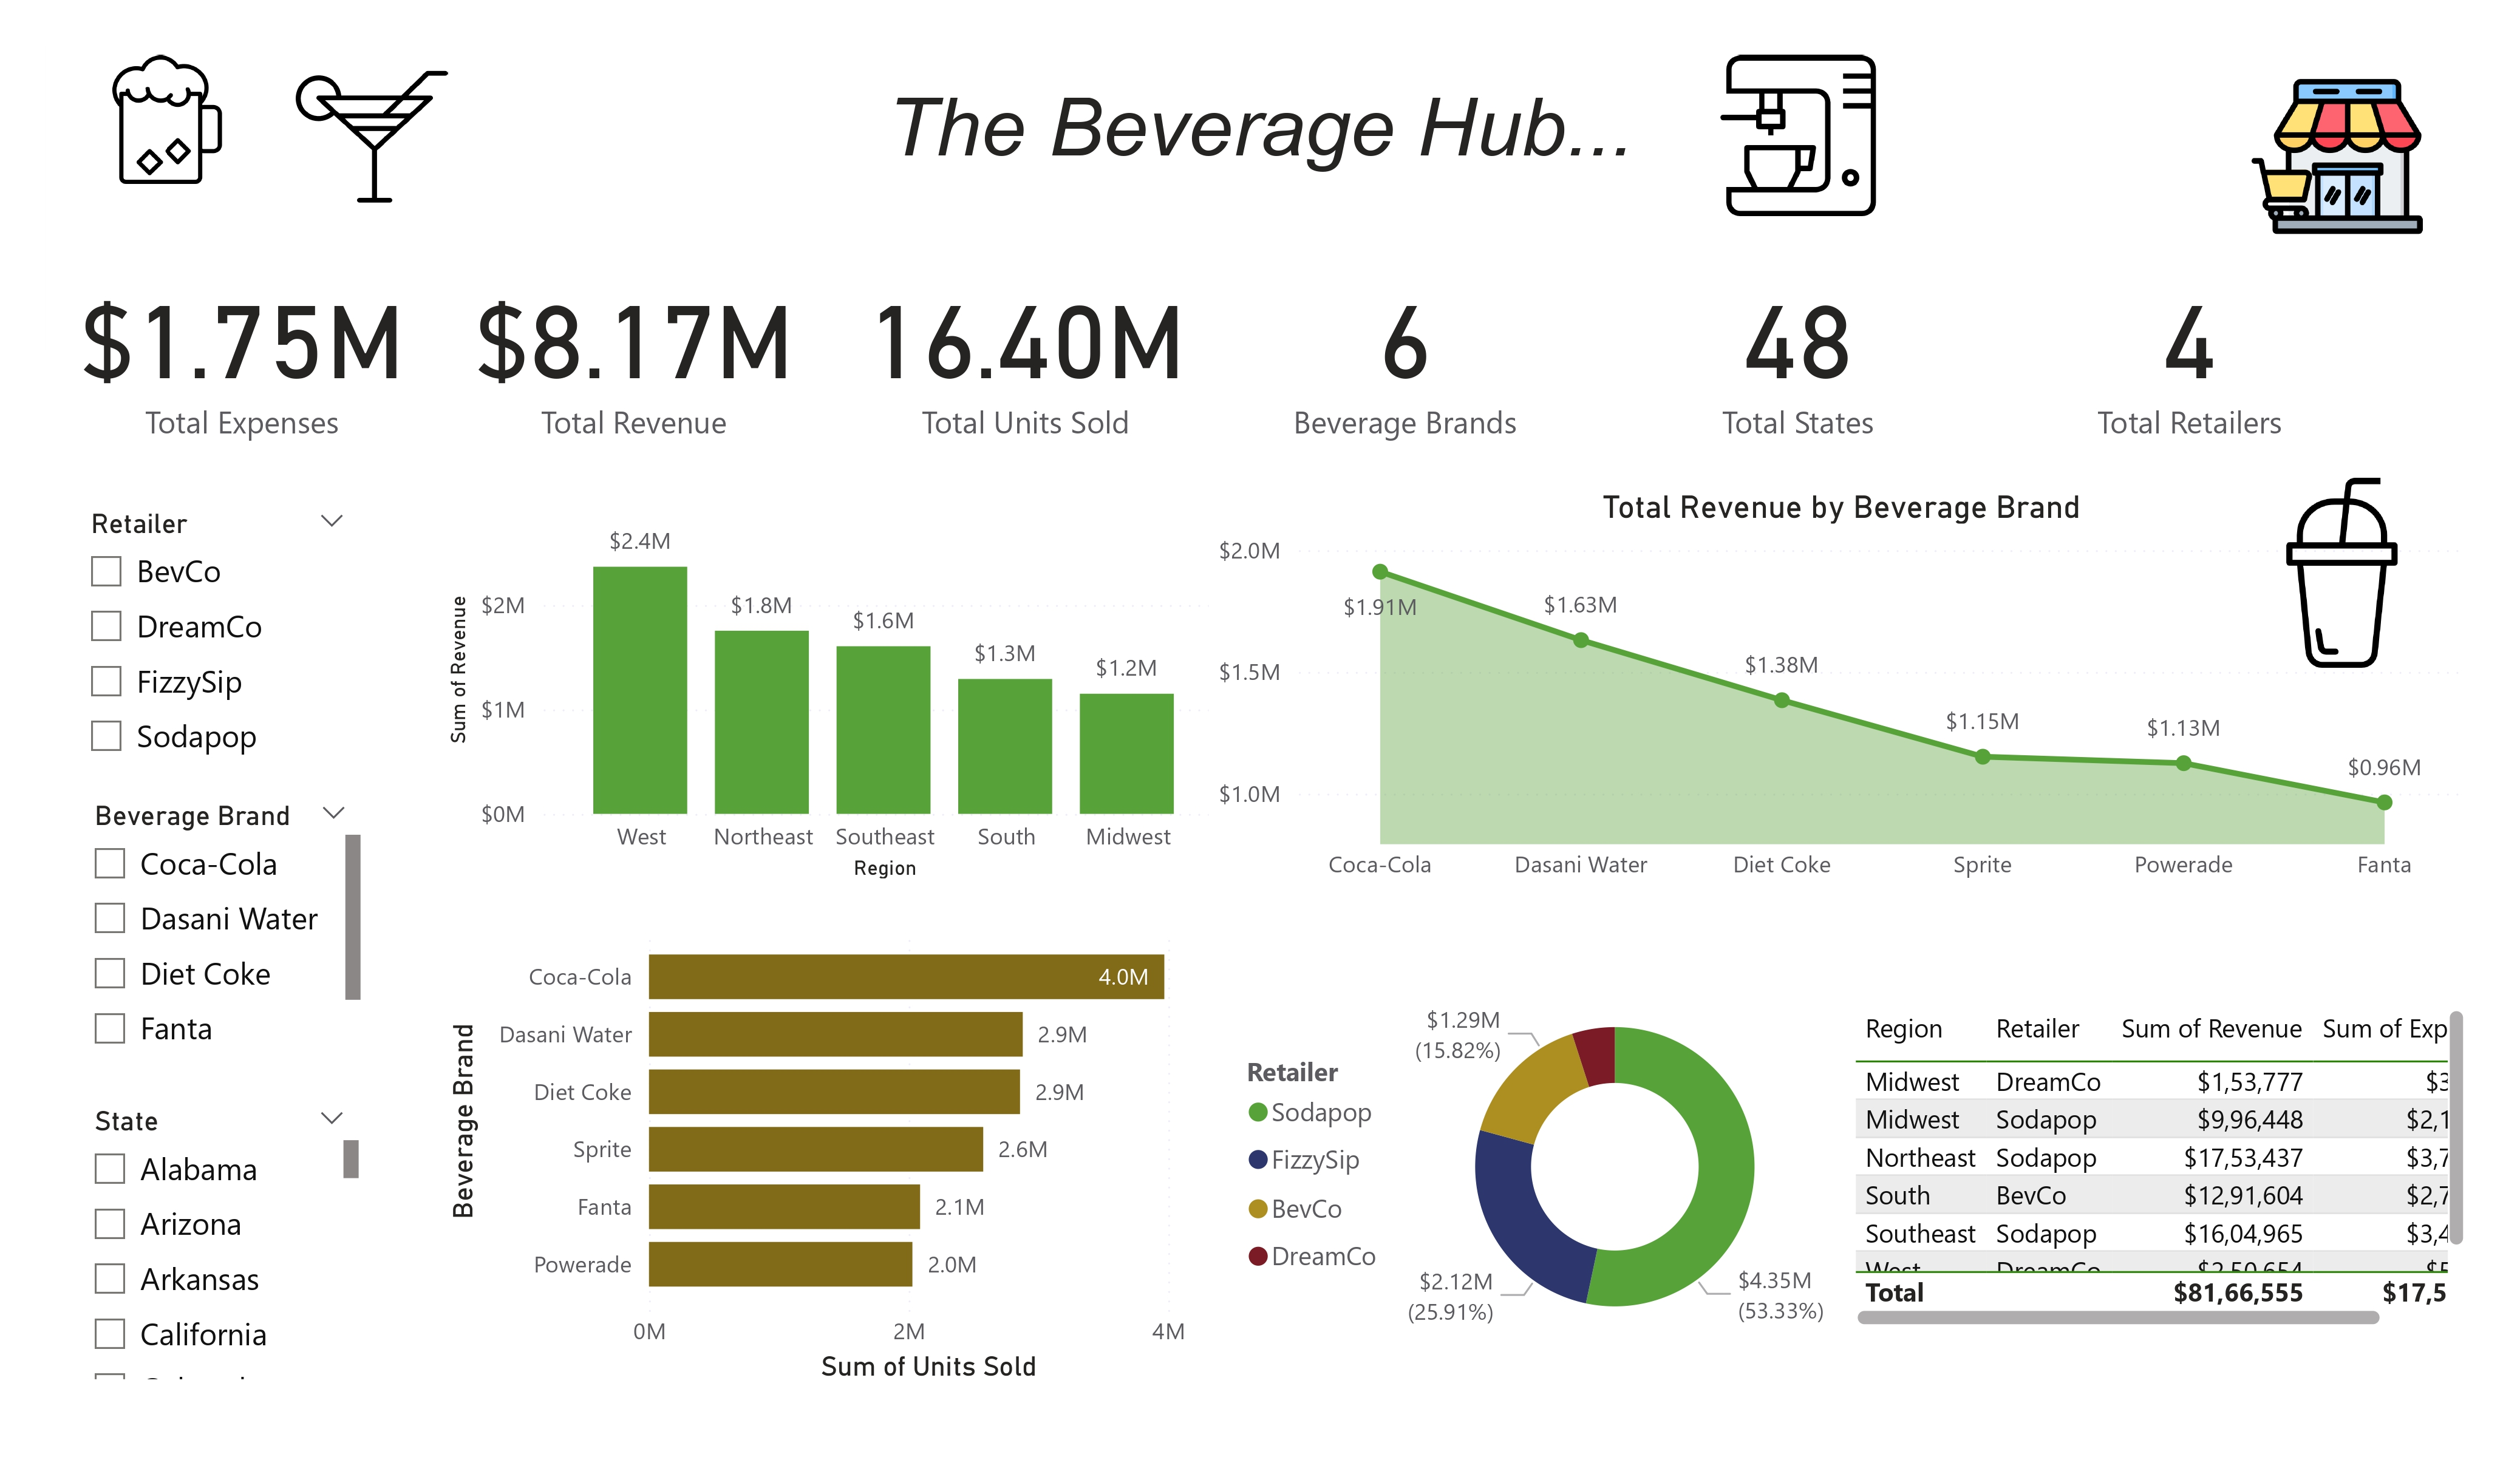

The page's visual inventory and layout, read from the dashboard file:
{"tool":"powerbi","page":{"name":"Page 1","canvas":[1280,720],"ordinal":0},"visuals":[{"type":"card","fields":{"Values":["Retail.grandTotal"]},"box":[0,95.7,207.1,128.6],"z":0},{"type":"slicer","fields":{"Values":["Retail.Retailer"]},"box":[11.4,238.6,158.6,154.3],"z":3000},{"type":"clusteredBarChart","fields":{"Category":["Retail.Beverage Brand"],"Y":["Sum(Retail.Units Sold)"]},"box":[207.1,454.3,420,254.3],"z":4000},{"type":"slicer","fields":{"Values":["Retail.Beverage Brand"]},"box":[12.9,392.9,158.6,151.4],"z":5000},{"type":"textbox","box":[0,0,1280,95.7],"z":7000},{"type":"slicer","fields":{"Values":["Retail.State"]},"box":[12.9,554.3,157.1,154.3],"z":8000},{"type":"columnChart","fields":{"Category":["Retail.Region"],"Y":["Sum(Retail.Revenue)"]},"box":[207.1,238.6,420,205.7],"z":11000},{"type":"donutChart","fields":{"Category":["Retail.Retailer"],"Y":["Sum(Retail.Revenue)"]},"box":[627.8,468.3,320.5,245.9],"z":12000},{"type":"lineChart","title":"Total Revenue by Beverage Brand","fields":{"Y":["Sum(Retail.Revenue)"],"Category":["Retail.Beverage Brand"]},"box":[613.3,233.3,666.7,216.7],"z":13000},{"type":"tableEx","fields":{"Values":["Retail.Region","Retail.Retailer","Sum(Retail.Revenue)","Sum(Retail.Expenses)"]},"box":[946.8,513.7,332.2,177.1],"z":14001},{"type":"card","fields":{"Values":["Sum(Retail.Revenue)"]},"box":[206.7,95,206.7,130],"z":14004},{"type":"card","fields":{"Values":["Sum(Retail.Units Sold)"]},"box":[413.3,95,206.7,130],"z":14005},{"type":"card","fields":{"Values":["Count(Retail.Beverage Brand)"]},"box":[613.3,95,206.7,130],"z":14006},{"type":"card","fields":{"Values":["Retail.Total States"]},"box":[820,95,206.7,130],"z":14007},{"type":"card","fields":{"Values":["Count(Retail.Retailer)"]},"box":[1026.7,95,206.7,130],"z":14008},{"type":"image","box":[1155,6.7,105,103.3],"z":14009},{"type":"image","box":[25,0,78.3,78.3],"z":14010},{"type":"image","box":[126.7,0,90,95],"z":14011},{"type":"image","box":[875,0,96.7,95],"z":14012},{"type":"image","box":[1155,223.3,110,110],"z":14013}]}

Visuals, with their boxes on the page's 1280x720 design canvas (x1, y1, x2, y2). These are canvas units, not pixel positions in the 2520x1457 screenshot, which may show the page scaled, cropped or inside an application window:
card - Retail.grandTotal: 0 96 207 224
slicer - Retail.Retailer: 11 239 170 393
clusteredBarChart - Retail.Beverage Brand x Sum(Retail.Units Sold): 207 454 627 709
slicer - Retail.Beverage Brand: 13 393 172 544
textbox: 0 0 1280 96
slicer - Retail.State: 13 554 170 709
columnChart - Retail.Region x Sum(Retail.Revenue): 207 239 627 444
donutChart - Retail.Retailer x Sum(Retail.Revenue): 628 468 948 714
"Total Revenue by Beverage Brand" lineChart: 613 233 1280 450
tableEx - Retail.Region x Retail.Retailer: 947 514 1279 691
card - Sum(Retail.Revenue): 207 95 413 225
card - Sum(Retail.Units Sold): 413 95 620 225
card - Count(Retail.Beverage Brand): 613 95 820 225
card - Retail.Total States: 820 95 1027 225
card - Count(Retail.Retailer): 1027 95 1233 225
image: 1155 7 1260 110
image: 25 0 103 78
image: 127 0 217 95
image: 875 0 972 95
image: 1155 223 1265 333
